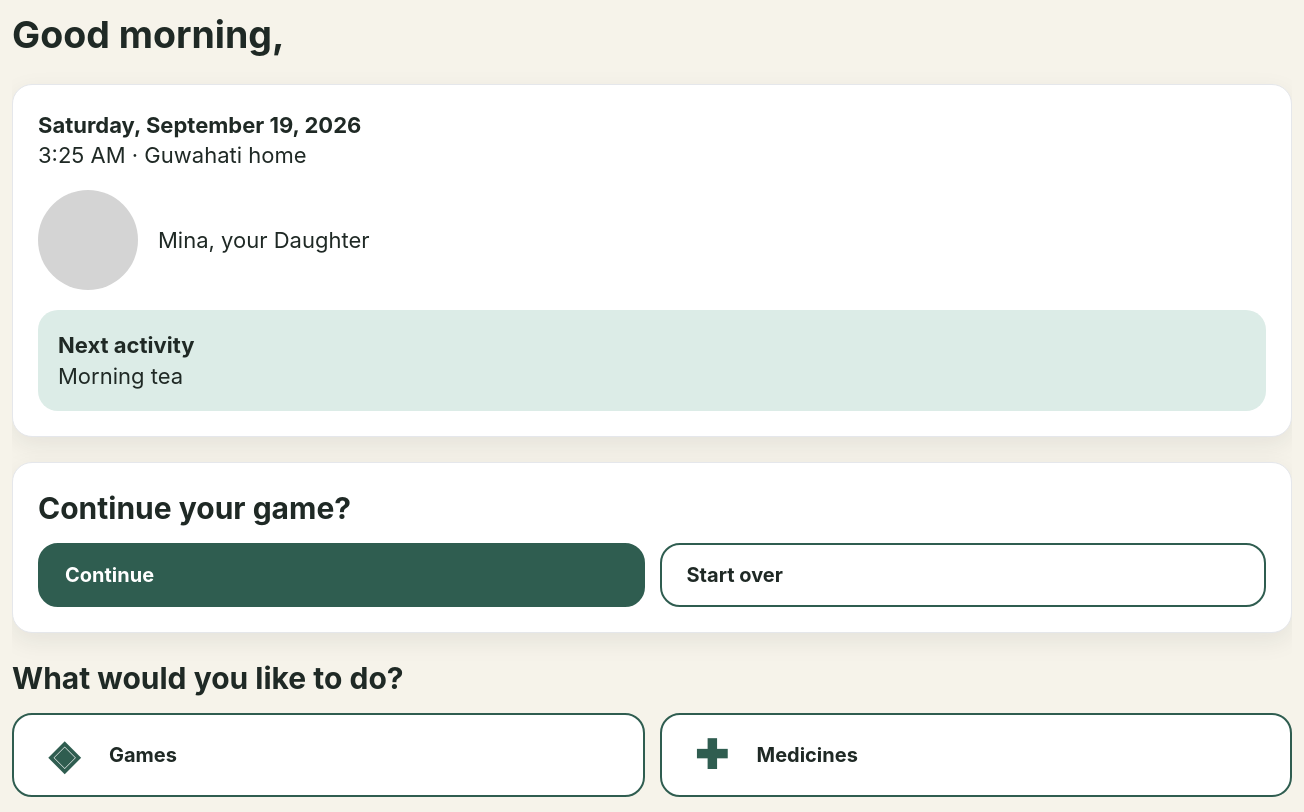
Test case: offers an interrupted game and records start over before hiding it
expect the heading "Continue your game?" is shown: met, box [38,490,351,526]
Click the button "Start over": (735, 575) [660,543,1266,607]
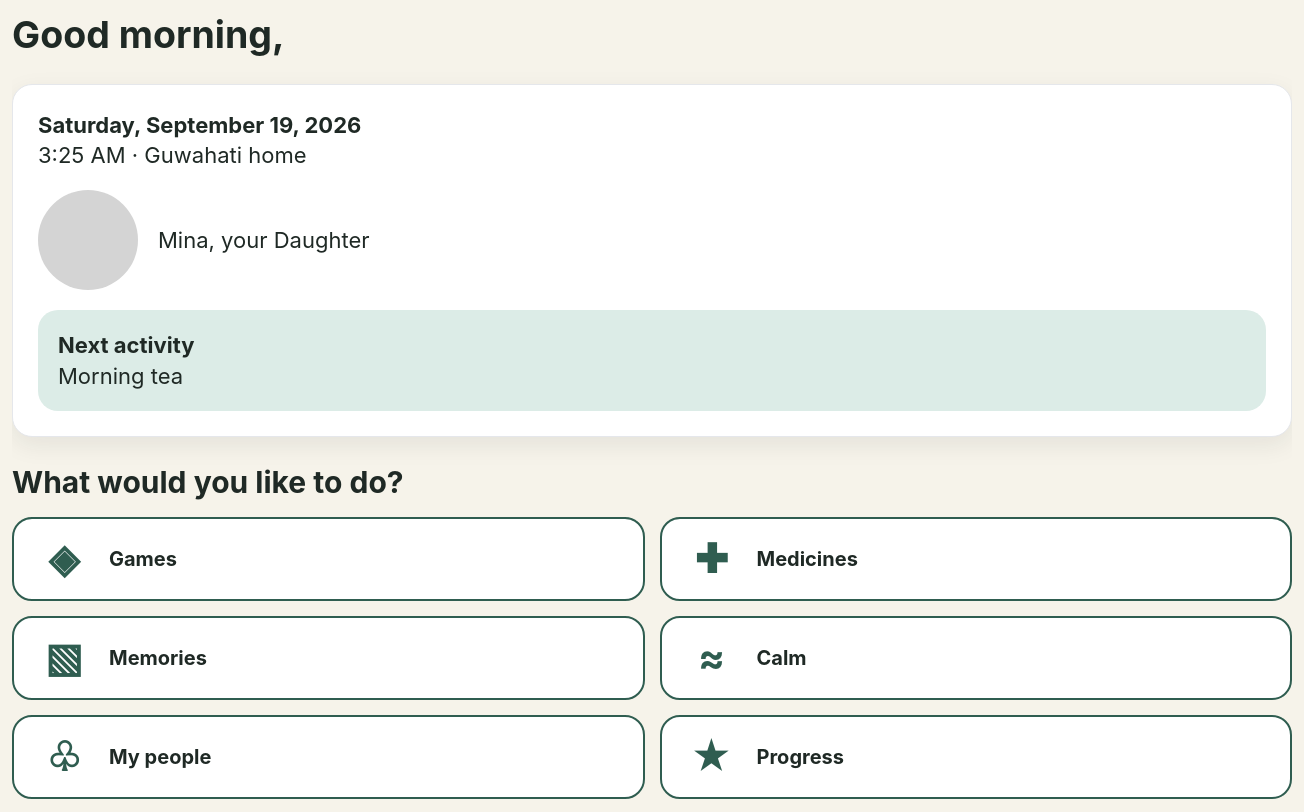
expect the heading "Continue your game?" is gone: met
